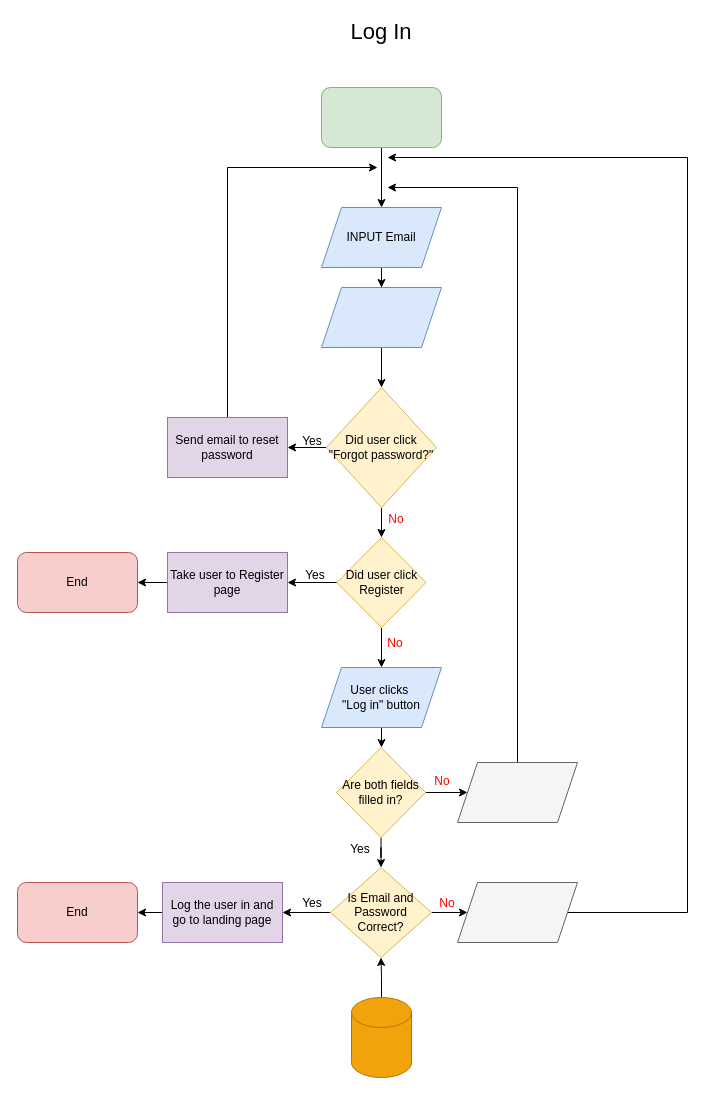
This 713x1095 diagram has some shape labels left out. The shapes that lost their labels are listed below. From the top down, each one's box as (x1, y1, x2, y2) in pixels, then its label:
(320, 86, 442, 148): Start
(320, 286, 442, 348): INPUT Password
(456, 762, 578, 822): OUTPUT error: "Please fill in all fields"
(456, 882, 578, 942): Output error: "Invalid Email or Password"
(350, 996, 412, 1078): Users
